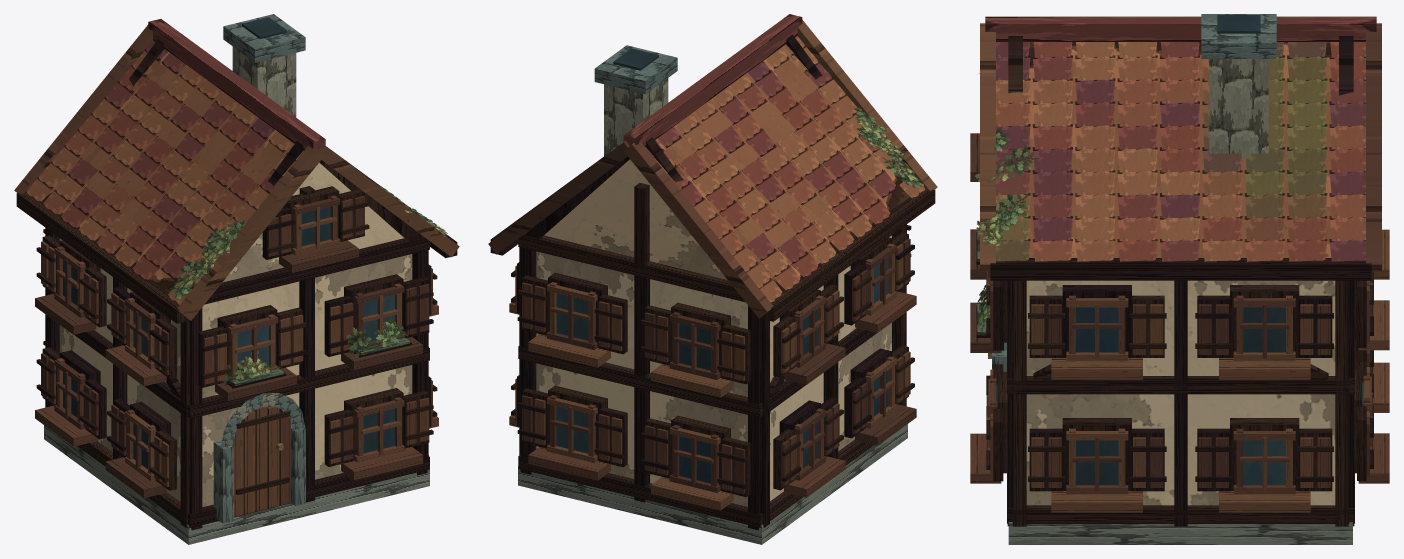
Rendered from house_gabled.glb.
The picture shows the model from 3 angles, left to right: view 1: azimuth 30°, elevation 25°; view 2: azimuth 150°, elevation 25°; view 3: azimuth 270°, elevation 25°; orthographic projection. The views are drawn at different scales.
Parts seen in each view (by area): view 1: house_gabled; view 2: house_gabled; view 3: house_gabled.
Part boxes in pixels (x1,y1,x2,y2): house_gabled: (14,14,459,544); house_gabled: (488,14,937,544); house_gabled: (970,14,1389,544).
Size of the model in its own units: 3.27 by 4.29 by 3.42.
Materials: 6 (6 with a texture image).
